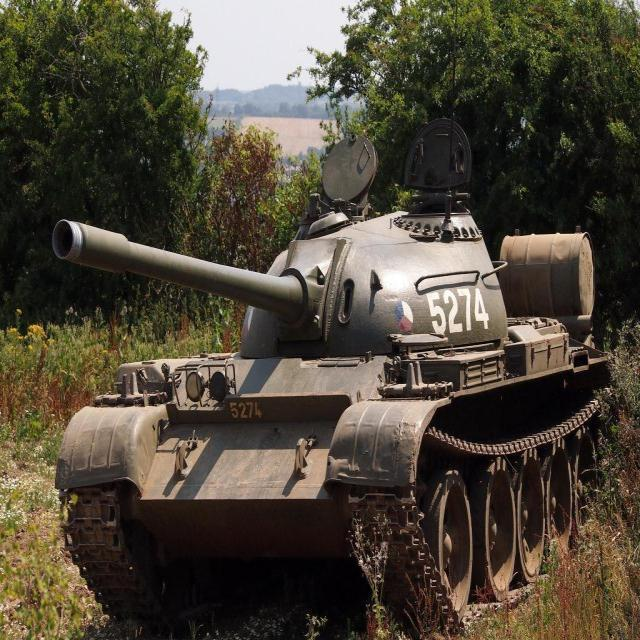MIL_MBT: (42, 114, 610, 634)
